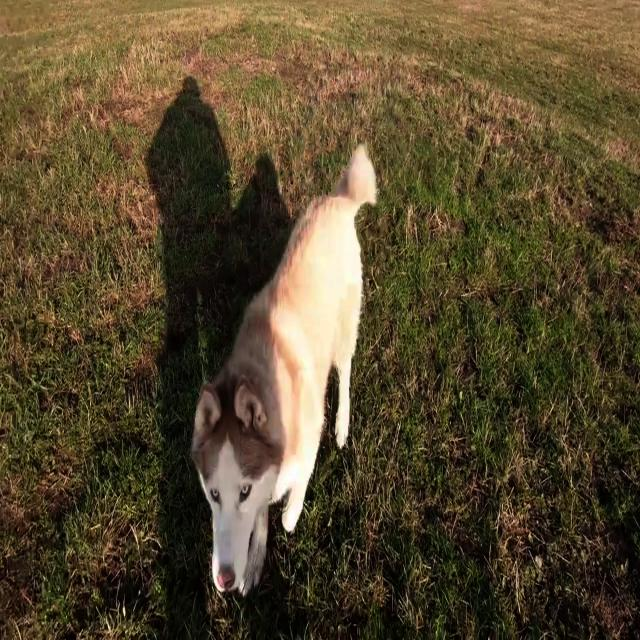Dog: (192, 144, 377, 599)
